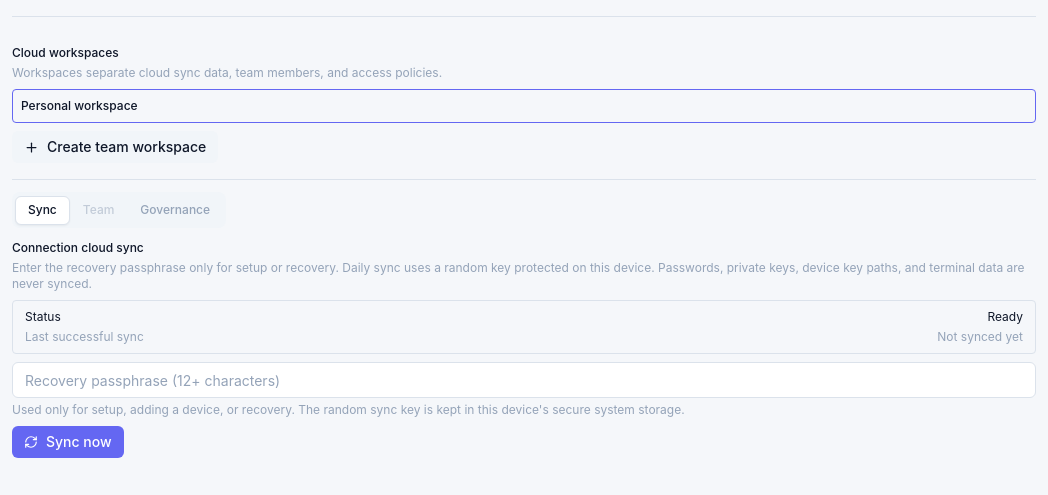
it: cloud sync controls › shows validation instead of silently ignoring an invalid passphrase
The width and height of the screenshot is (1048, 495).
Step 1. Click the button "Sync now" → {"x": 68, "y": 442}, box top-left (12, 426), bottom-right (124, 458)
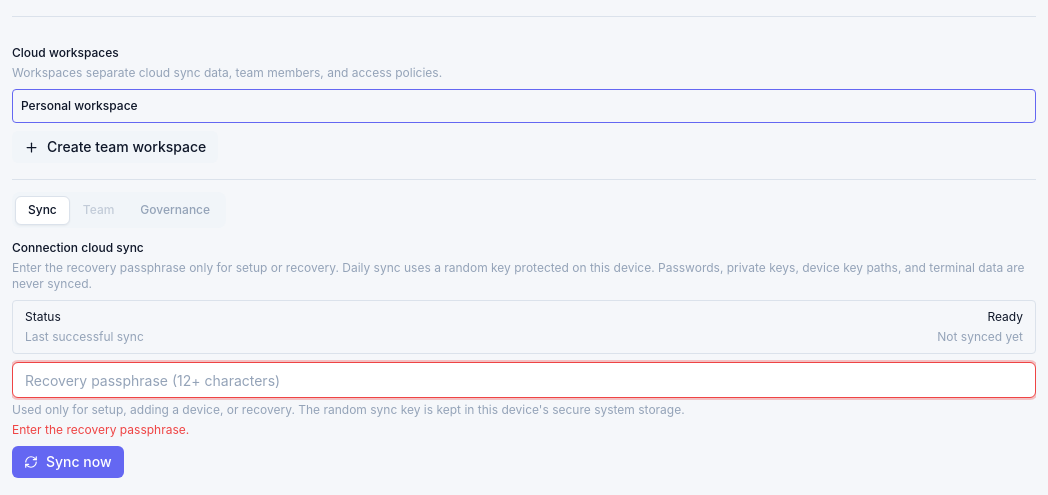
Check: the message "Enter the recovery passphrase." is shown, box top-left (12, 422), bottom-right (189, 437)
